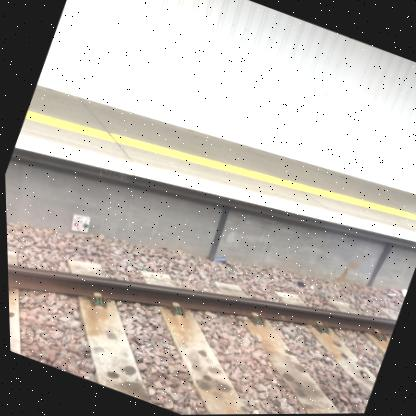Metal: (382, 292, 393, 296)
Paper: (397, 288, 405, 297)
Plastic: (210, 256, 224, 261), (294, 280, 302, 286)
Waste: (386, 288, 399, 296)
